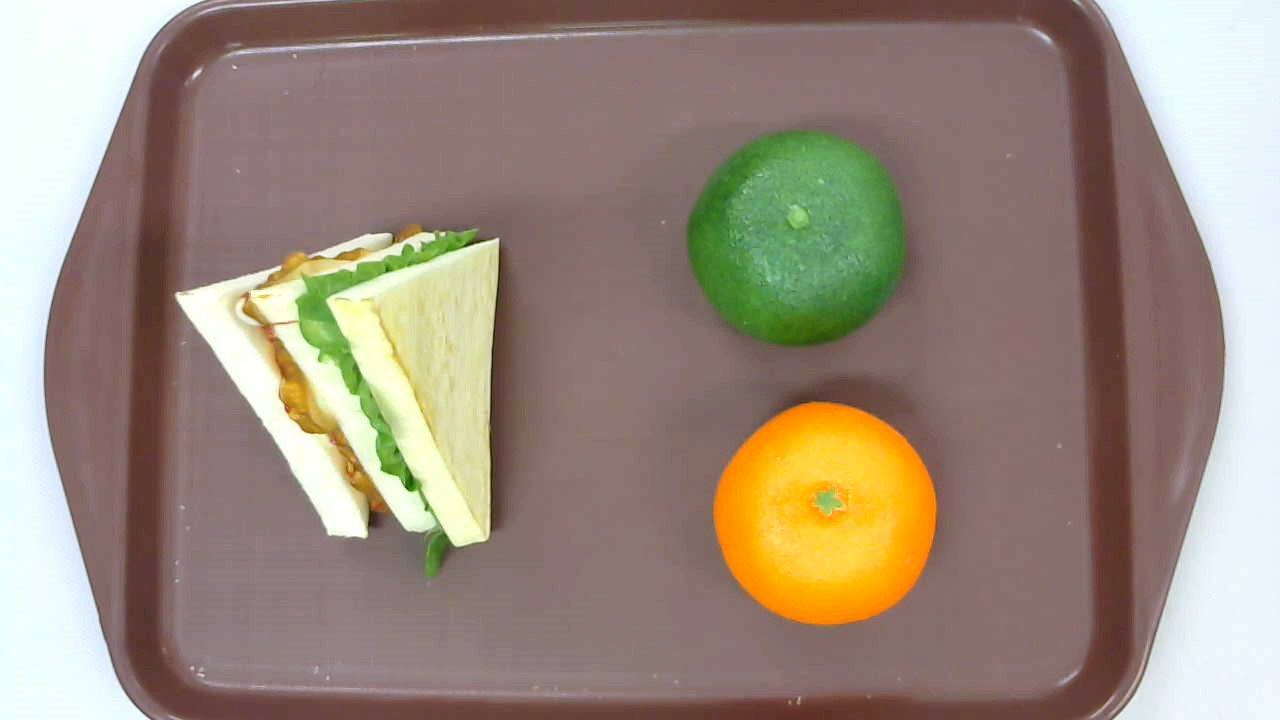green orange: (685, 127, 908, 349)
orange: (712, 402, 937, 624)
sandwich: (175, 222, 501, 583)
